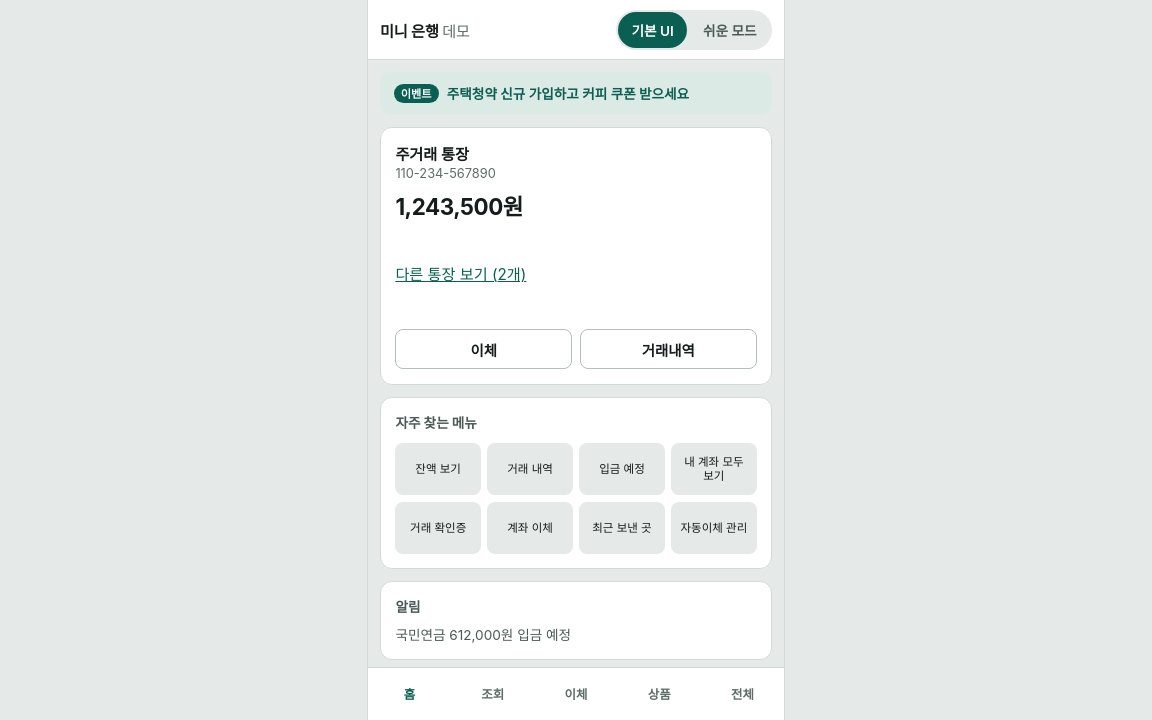
실제로 동작하는 화면 › 자동이체를 멈출 수 있다 (시나리오 S3의 목적지)
Expected: the element named "화면 방식" is shown, [616,10,772,50]
Step 1. Click the button "전체" → coordinates (742, 694), box [701,668,784,719]
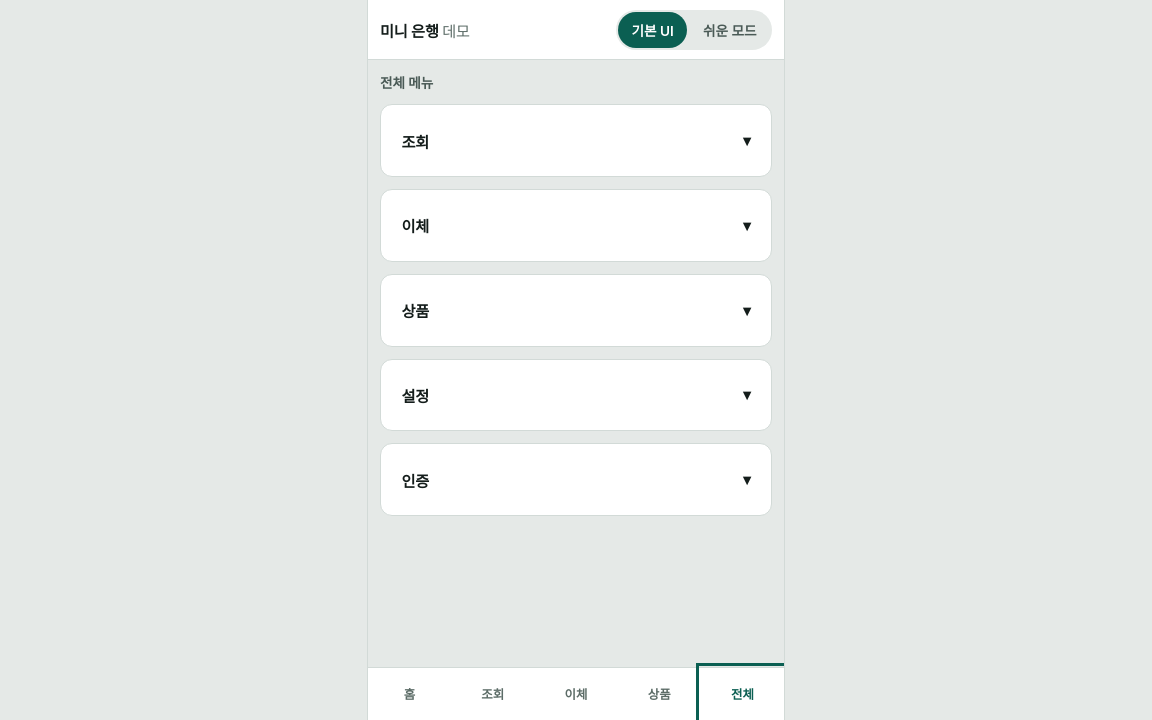
Step 2. Click the button "이체 ▾" → coordinates (415, 227), box [395,204,757,246]
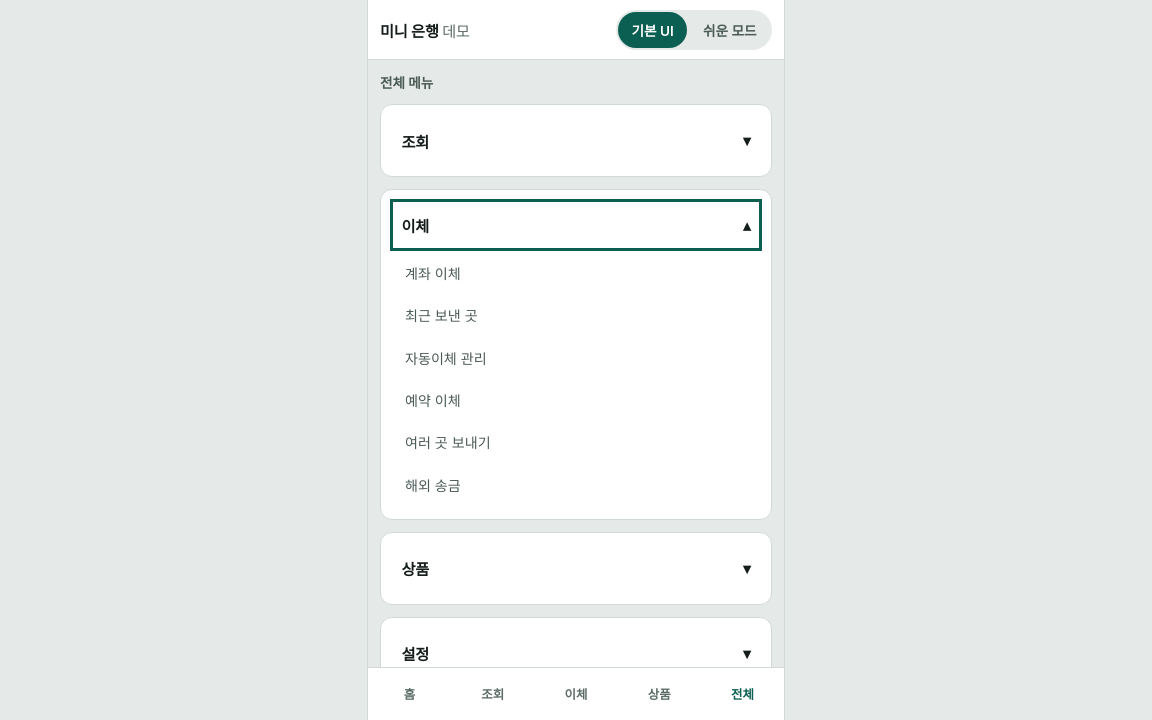
Step 3. Click the button "자동이체 관리" → coordinates (446, 358), box [395,338,757,378]
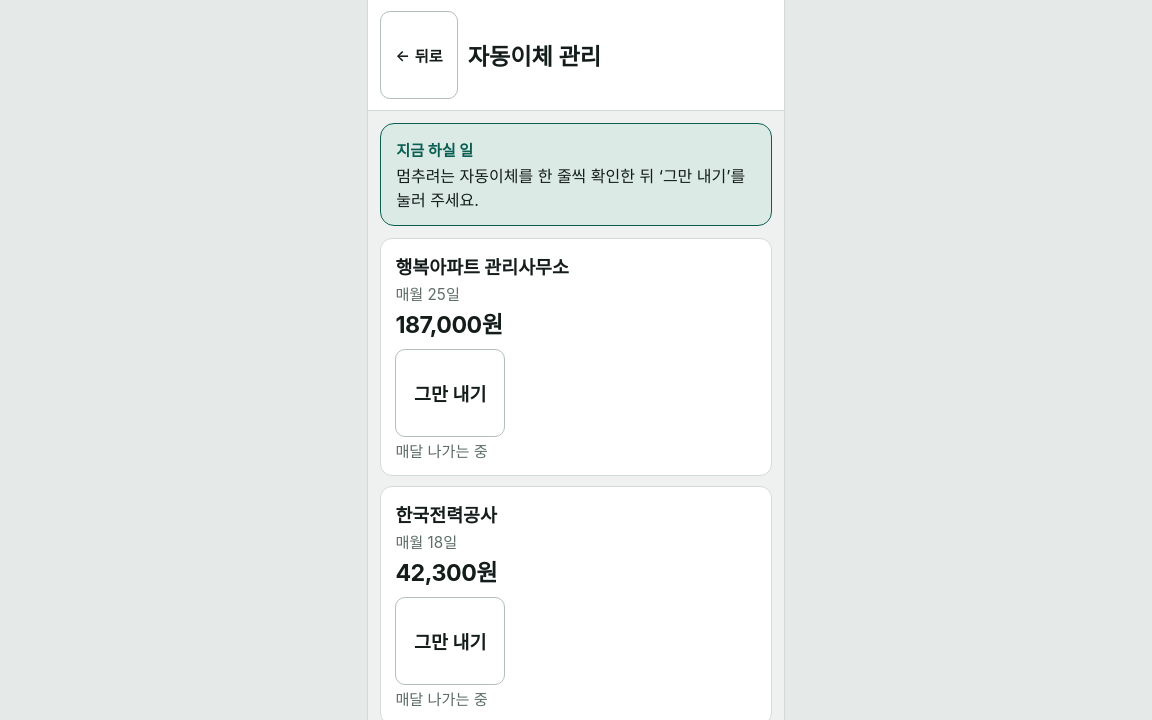
Step 4. Click the button "그만 내기" below "한국전력공사" → coordinates (450, 641), box [395,597,505,685]
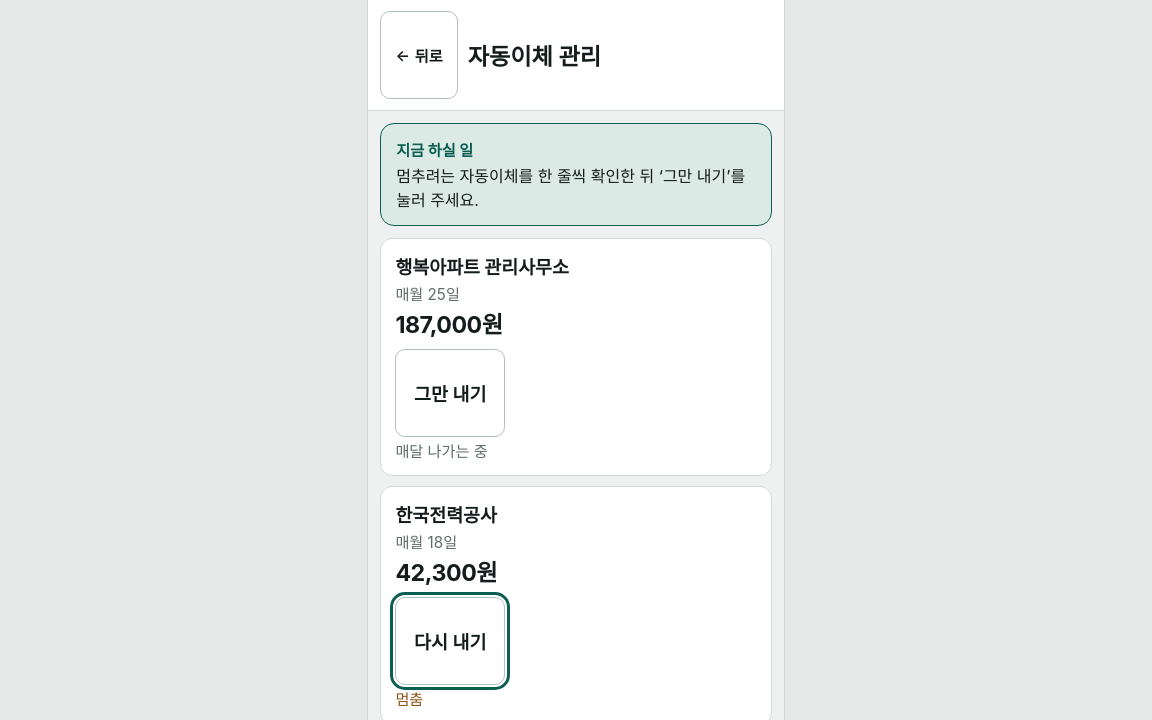
Expected: the text "멈춤" is shown, [395,690,423,709]
